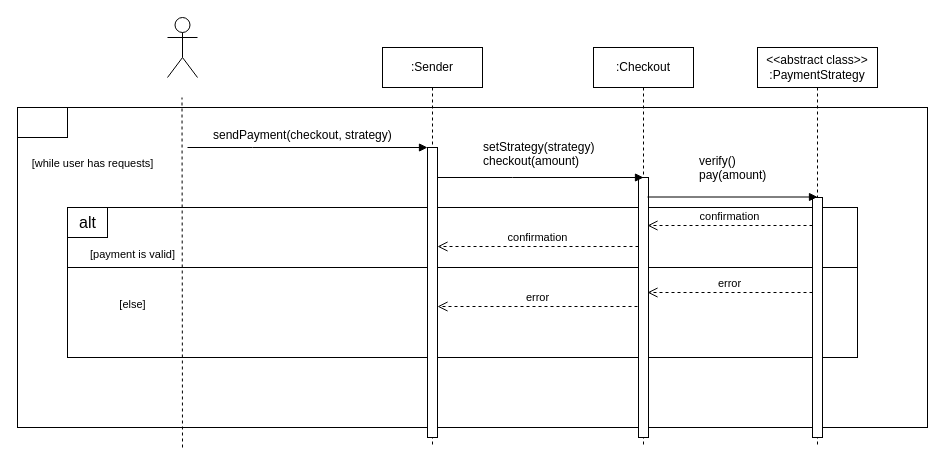
The diagram is 945 pixels wide and 466 high, and some of its shapes have lost their labels. The shapes that lost their labels are listed below. From the top down, each one's box as (x1, y1, x2, y2) in pixels, then its label:
(166, 16, 198, 78): SenderPerson
(16, 106, 68, 138): loop
